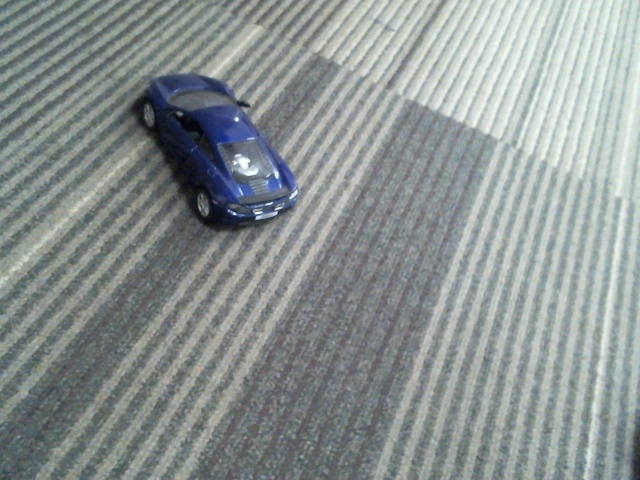car: (141, 73, 301, 227)
